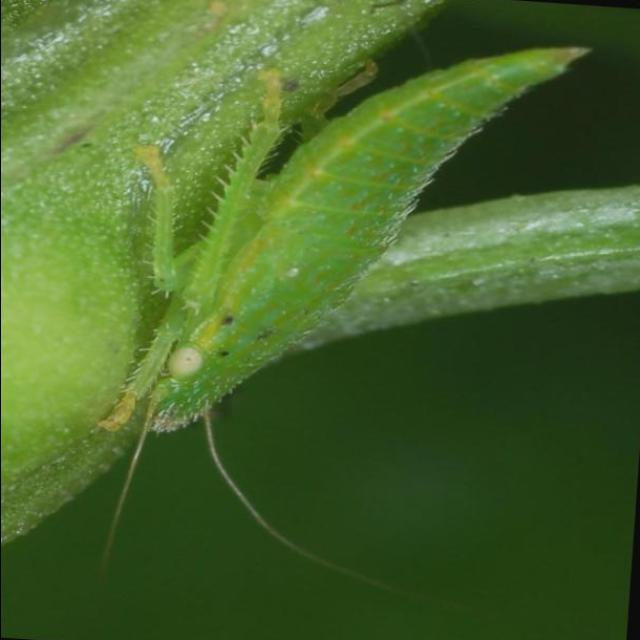green leaf hopper: (104, 48, 585, 432)
